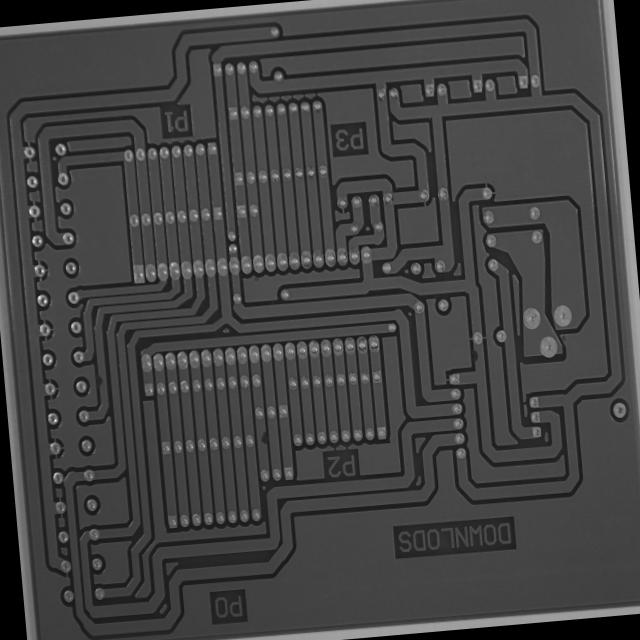mouse_bite: (255, 426, 270, 448), (94, 370, 108, 390), (469, 345, 482, 365)
